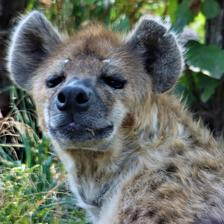hyena: (0, 9, 224, 224)
